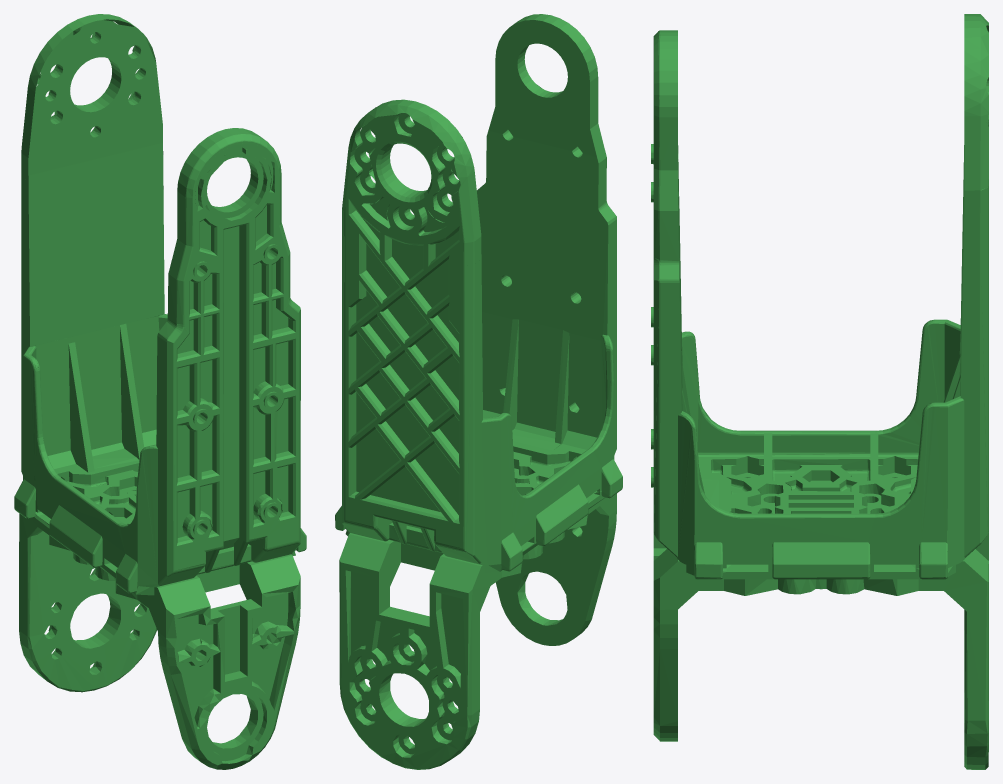
File: bone42.DAE
The picture shows the model from 3 angles, left to right: view 1: azimuth 30°, elevation 25°; view 2: azimuth 150°, elevation 25°; view 3: azimuth 270°, elevation 25°; orthographic projection. The views are drawn at different scales.
Visible parts, largest first — view 1: DRB-0008, Imported1; view 2: DRB-0008, Imported1; view 3: DRB-0008, Imported1.
Boxes of the visible parts, x1,y1,x2,y2 form: DRB-0008: (14,14,306,593); Imported1: (19,486,300,769); DRB-0008: (335,14,622,571); Imported1: (339,491,616,769); DRB-0008: (651,14,988,579); Imported1: (653,493,988,769).
Bounding box in the file's own units: 28 × 41.3 × 99.96.
